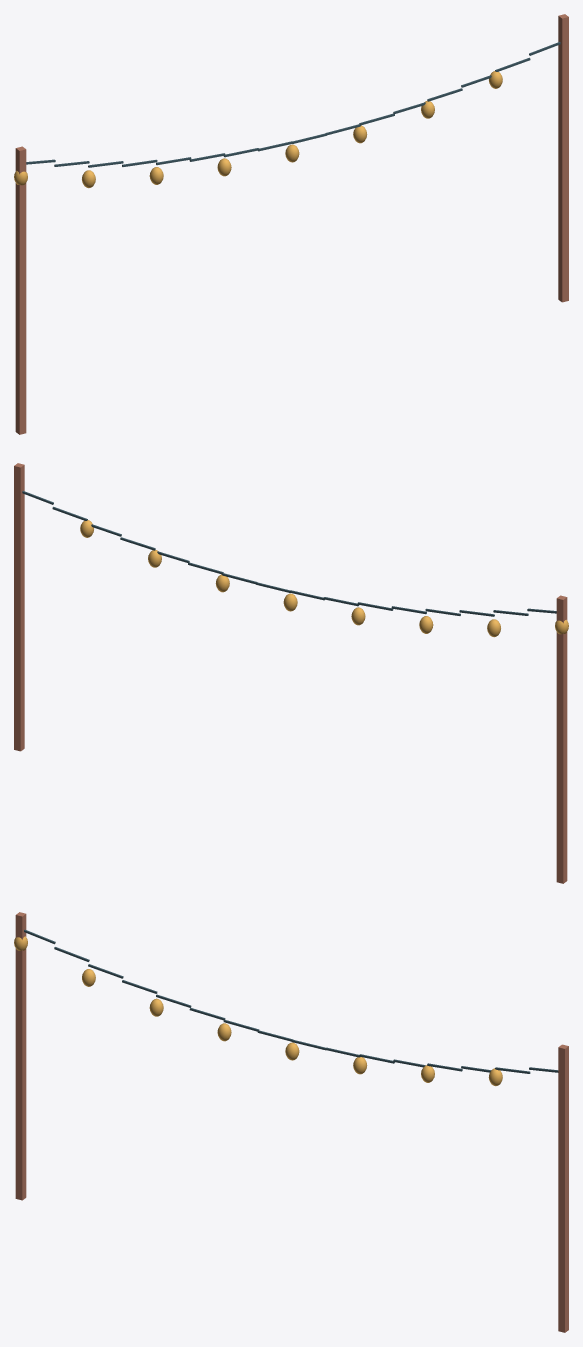
File: prop-bandstand-lights.glb
The picture shows the model from 3 angles, top to bottom: view 1: azimuth 30°, elevation 25°; view 2: azimuth 150°, elevation 25°; view 3: azimuth 330°, elevation 25°; orthographic projection.
Parts seen in each view (by area): view 1: lights; view 2: lights; view 3: lights.
Part boxes in pixels (bbox=[...]): lights: bbox=[14, 14, 568, 434]; lights: bbox=[14, 463, 568, 883]; lights: bbox=[14, 912, 568, 1332].
Size of the model in its own units: 8.14 by 4 by 0.18.
